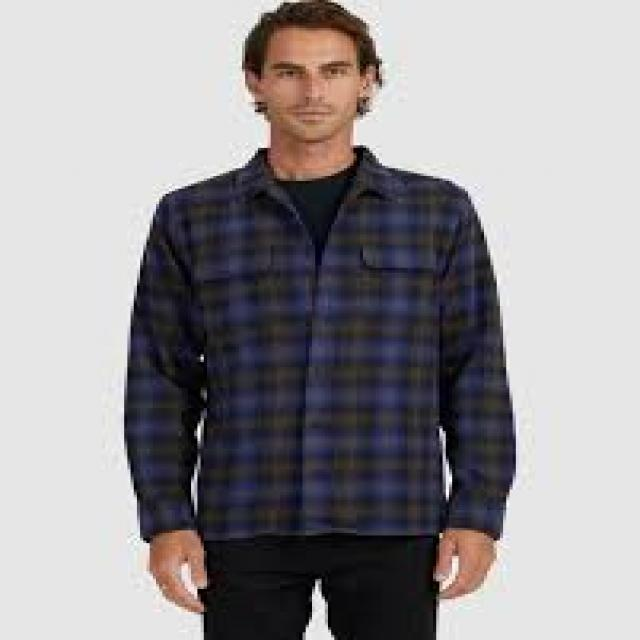plaid: (113, 160, 527, 538)
